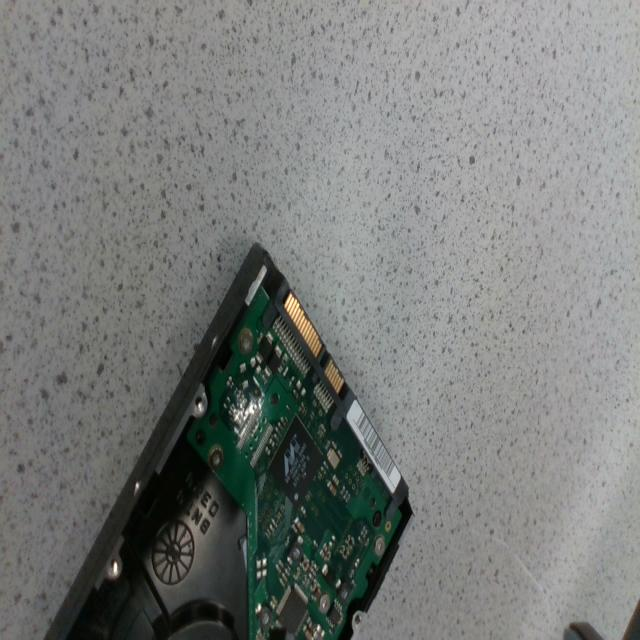case: (54, 244, 412, 639)
pcb: (184, 282, 404, 639)
screw: (256, 604, 273, 630), (238, 328, 254, 355), (208, 445, 223, 470), (374, 535, 385, 557), (320, 593, 330, 613)
